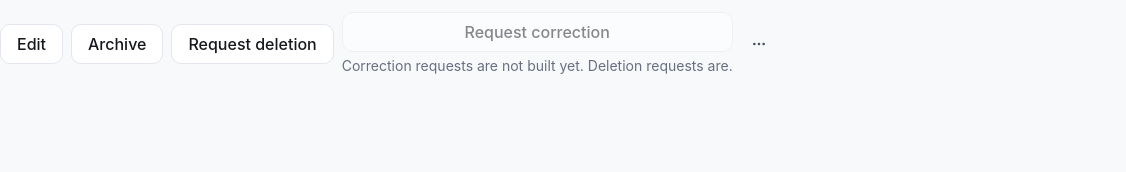
Test: archive and restore › reports a failed archive in the page, and shows no toast
Click the button "Archive" at (117, 44), box [71,24,163,64]
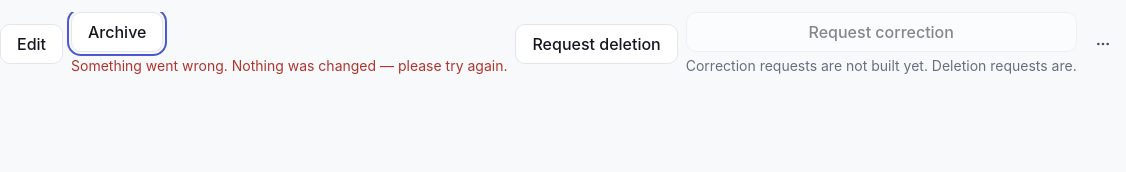
Expected: the message reads "Something went wrong. Nothing was changed — please try again.", [71,57,508,74]
